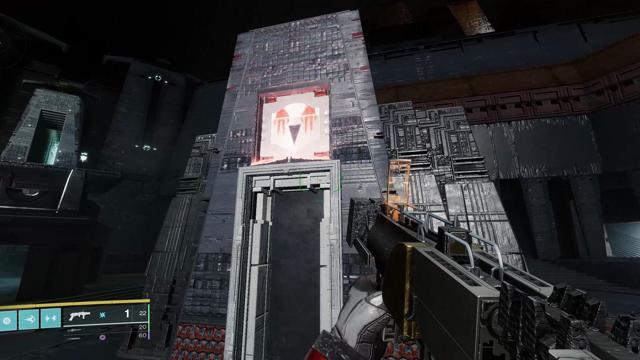give: (271, 103, 320, 151)
